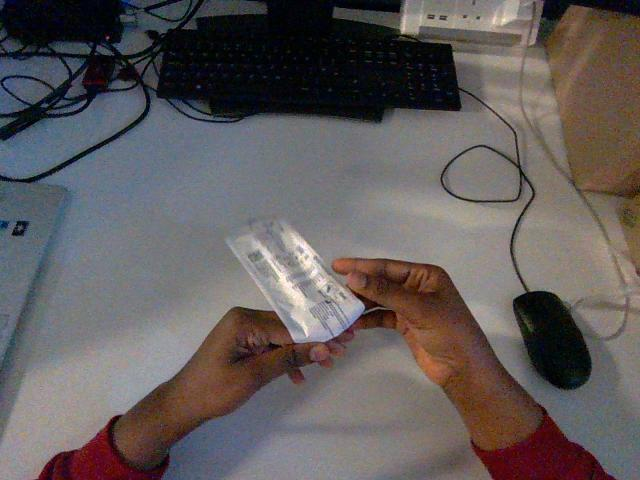syringe: (227, 220, 364, 342)
